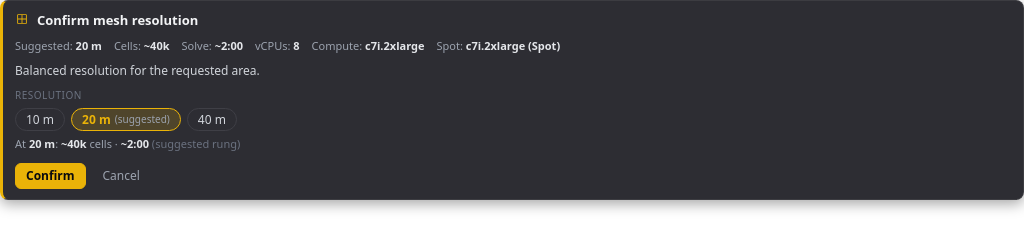
Test: ResolutionPickerCard - live recompute on chip change › live-updates cells + ETA when a finer rung is picked
The width and height of the screenshot is (1024, 229).
Check: the text with test id "resolution-picker-readout-cells" reads "~40k", box [61,136,87,151]
Check: the text with test id "resolution-picker-readout-eta" reads "~2:00", box [121,136,149,151]
Click the radio button with test id "resolution-picker-chip-10" at (40, 120), box [15,108,65,131]
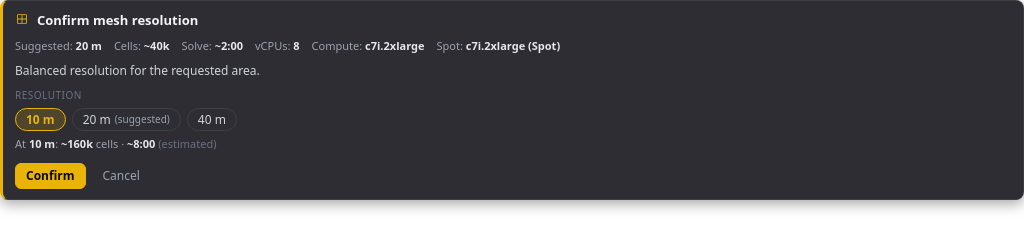
Check: the text with test id "resolution-picker-readout-cells" reads "~160k", box [61,136,93,151]
Check: the text with test id "resolution-picker-readout-eta" reads "~8:00", box [127,136,155,151]
